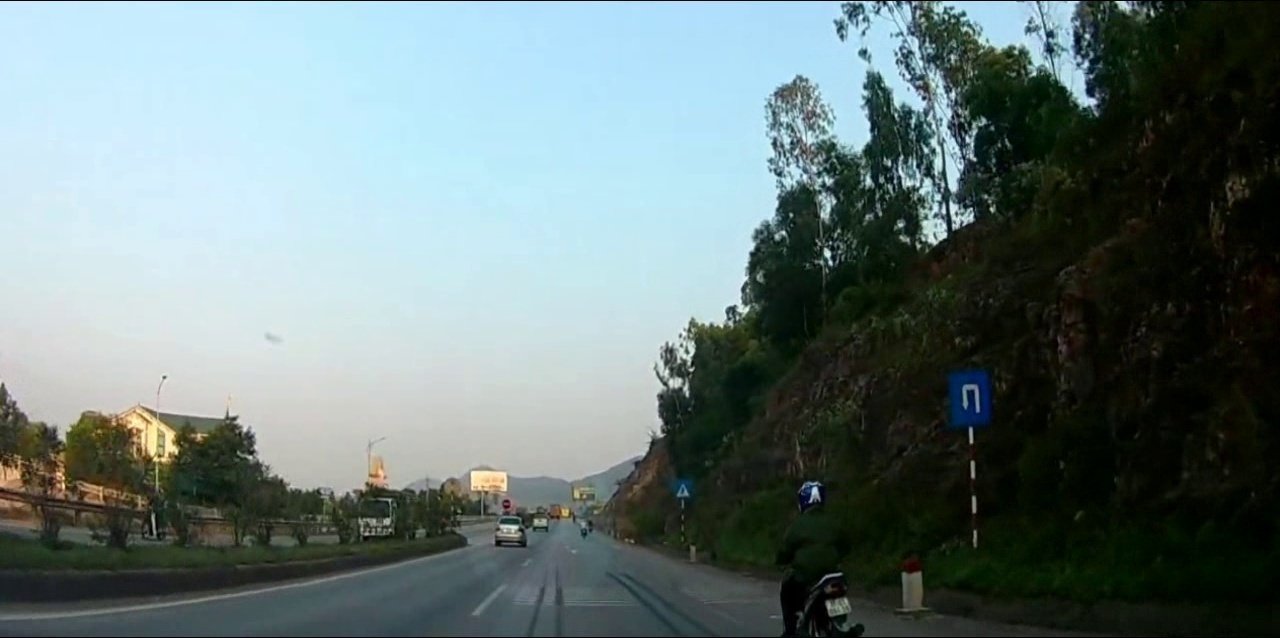Bien khac: (948, 372, 992, 427)
Cam di nguoc chieu: (500, 496, 513, 508)
Nguoi di bo: (673, 480, 689, 500)
